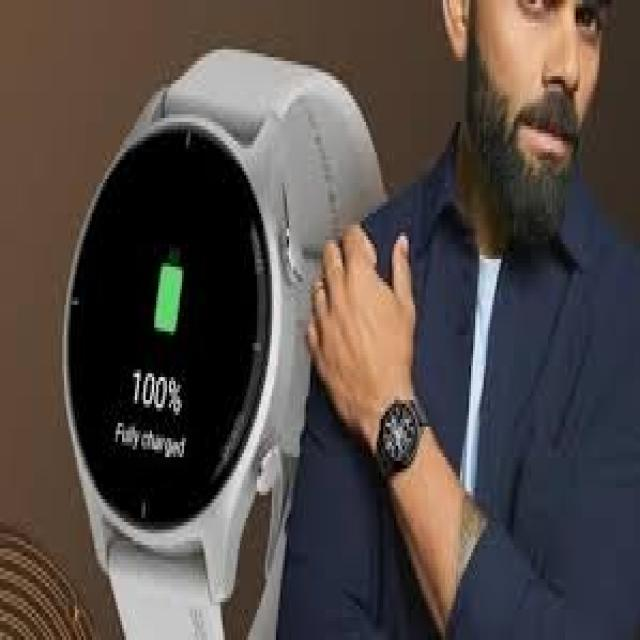objects: (64, 50, 383, 636), (369, 389, 430, 478)
